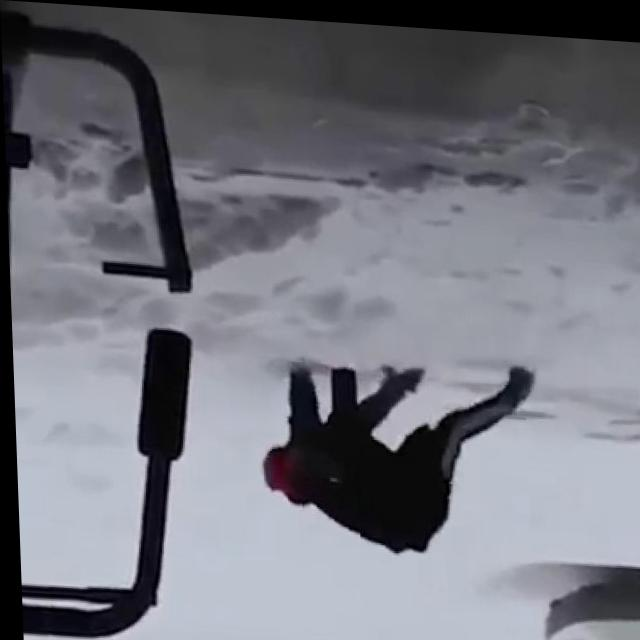fall: (254, 340, 541, 568)
